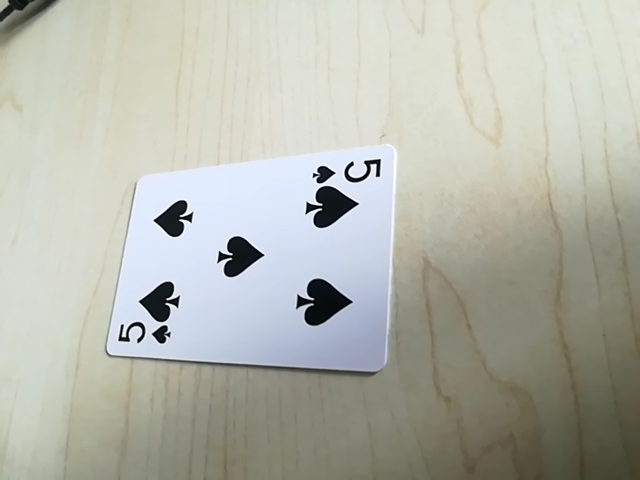ht 5: (108, 319, 180, 353), (311, 154, 385, 186)
